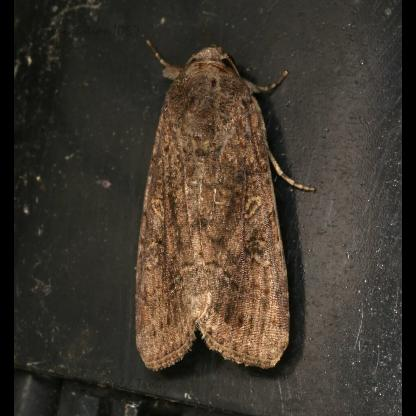Fall Armyworm Moth: (130, 36, 320, 376)
